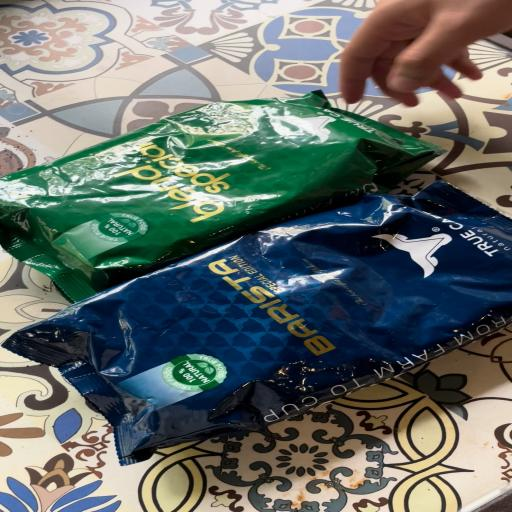cafe_hat: (4, 182, 512, 465)
cafe_xay: (0, 91, 437, 302)
